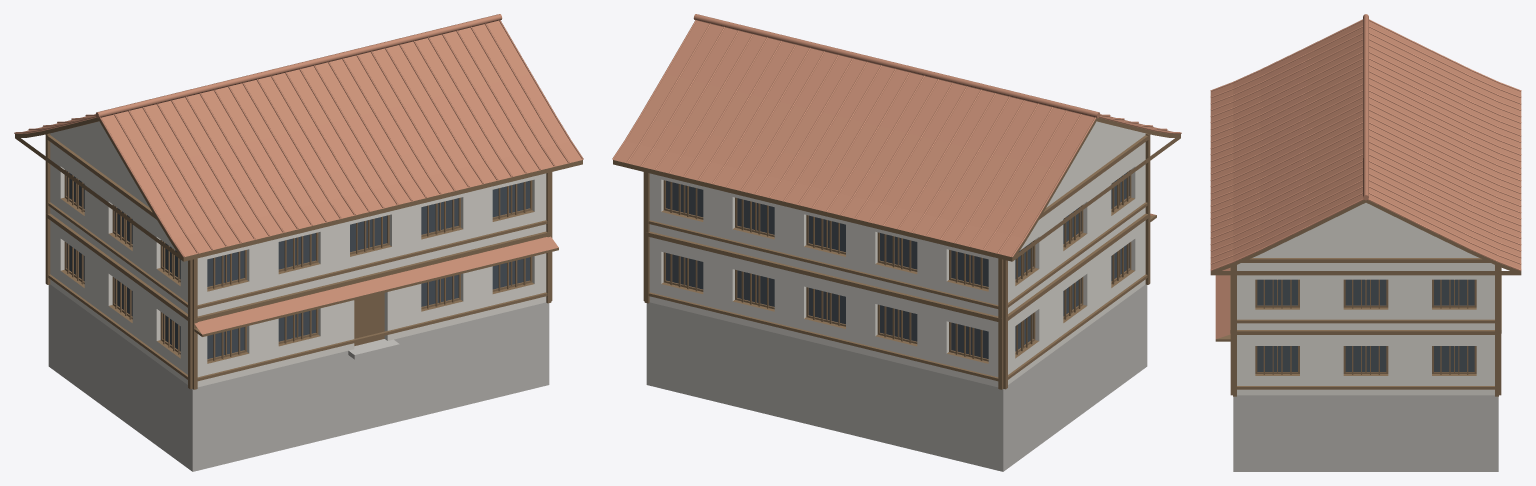
Rendered from japanese_house_2_l.glb.
3 views of the same model, side by side, from view 1: azimuth 30°, elevation 25°; view 2: azimuth 150°, elevation 25°; view 3: azimuth 270°, elevation 25° (orthographic). The views are drawn at different scales.
Visible parts, largest first — view 1: japanese_house_2_l; view 2: japanese_house_2_l; view 3: japanese_house_2_l.
Boxes of the visible parts, x1,y1,x2,y2 form: japanese_house_2_l: (14,14,583,471); japanese_house_2_l: (612,14,1181,471); japanese_house_2_l: (1210,14,1521,471).
Size of the model in its own units: 16.96 by 12.56 by 12.33.
